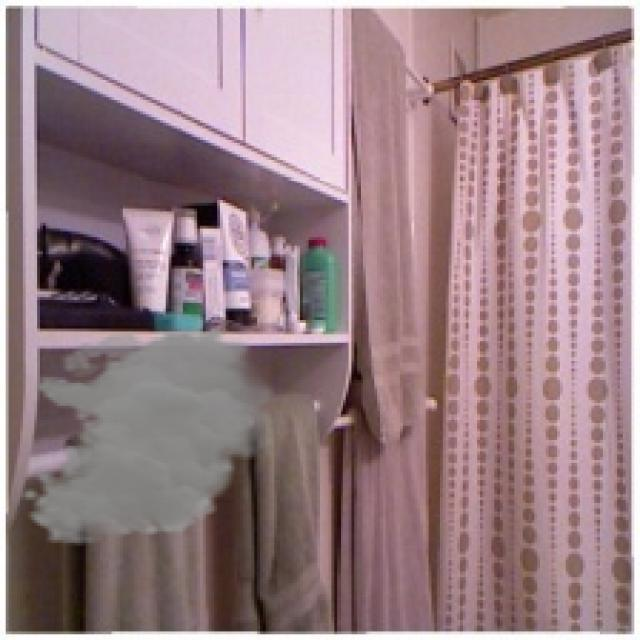Smoke: (20, 326, 289, 546)
